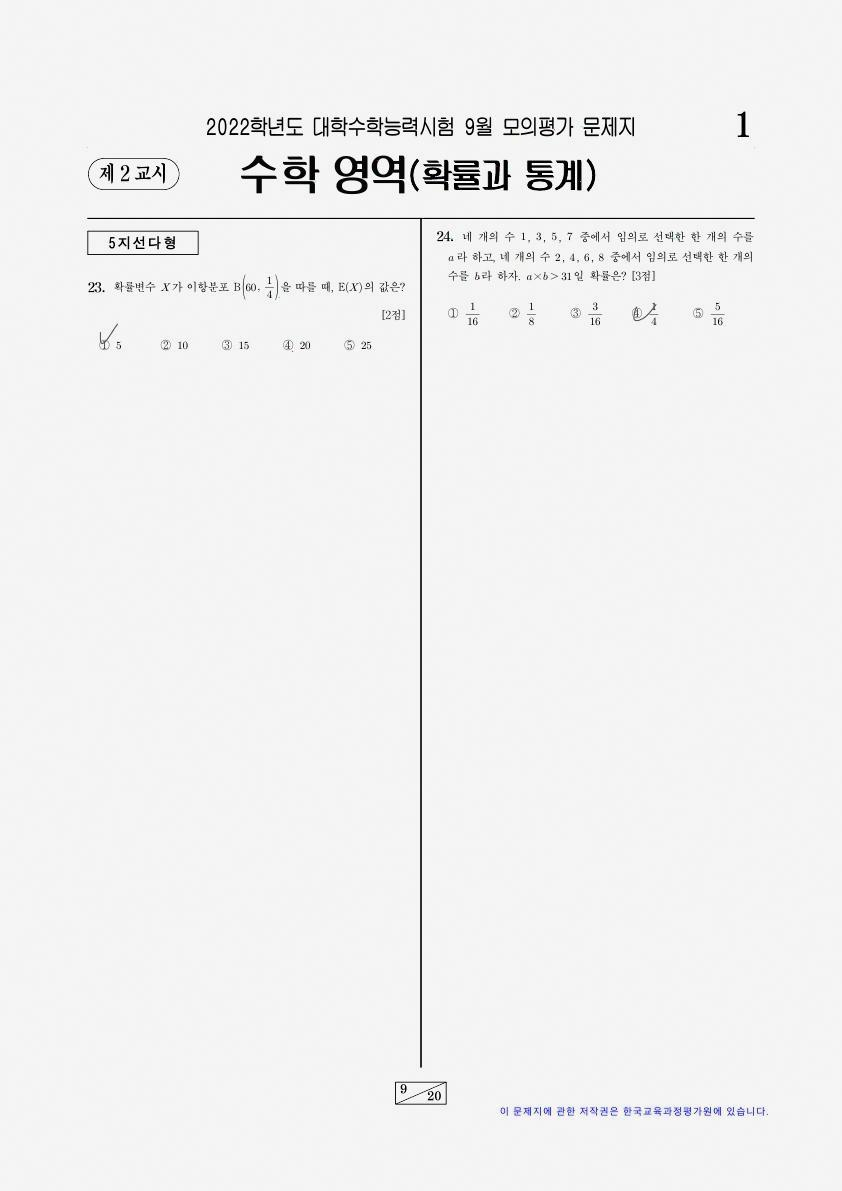question: (424, 217, 767, 339), (72, 265, 416, 365)
